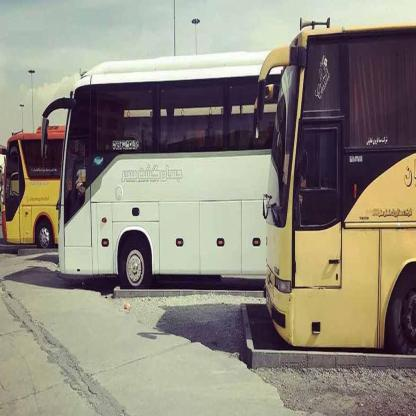Bus: (258, 0, 416, 357), (56, 56, 283, 291), (0, 113, 74, 258)
